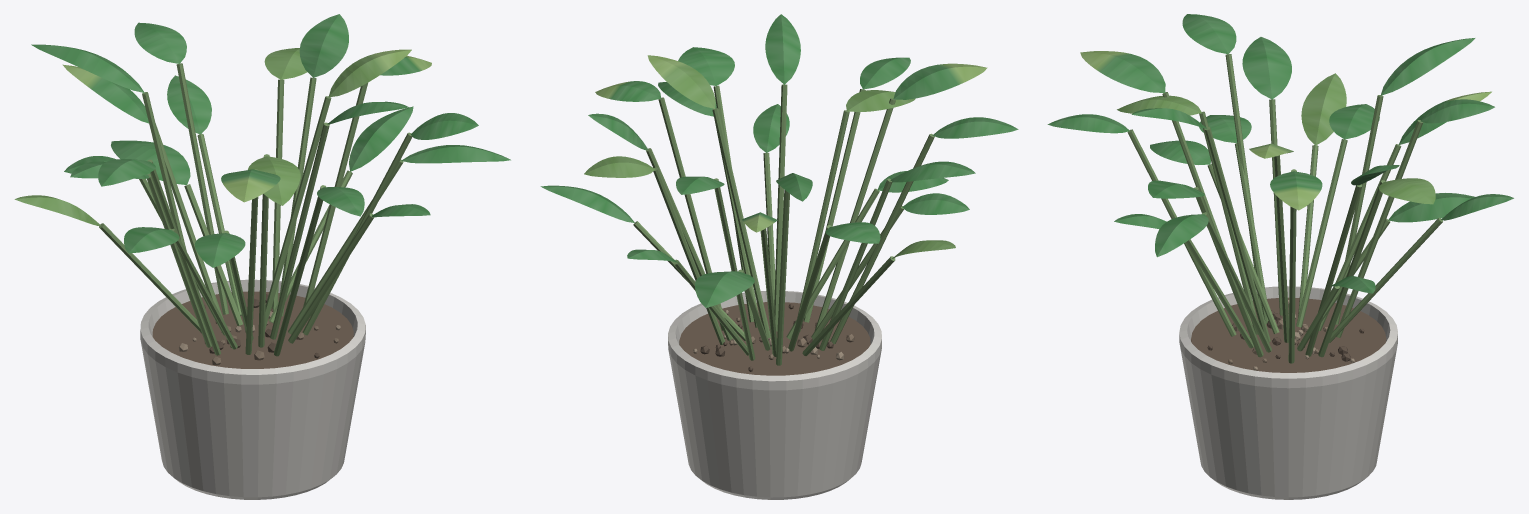
File: calathea_LUMA_3D.glb
3 renders of one model, left to right at view 1: azimuth 30°, elevation 25°; view 2: azimuth 150°, elevation 25°; view 3: azimuth 270°, elevation 25°, orthographic. The views are drawn at different scales.
Visible parts, largest first — view 1: world; view 2: world; view 3: world.
Part boxes in pixels (<box>): world: <box>14,14,510,499</box>; world: <box>540,14,1018,499</box>; world: <box>1047,14,1513,499</box>.
Size of the model in its own units: 1.8 by 1.63 by 1.79.
